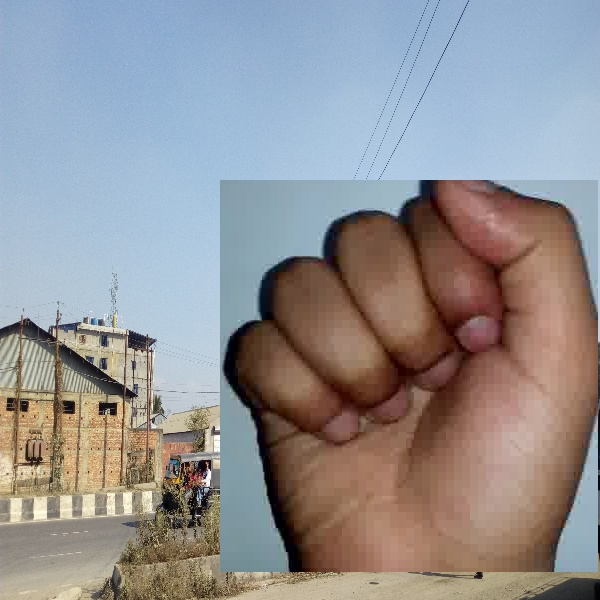A: (220, 180, 598, 572)
